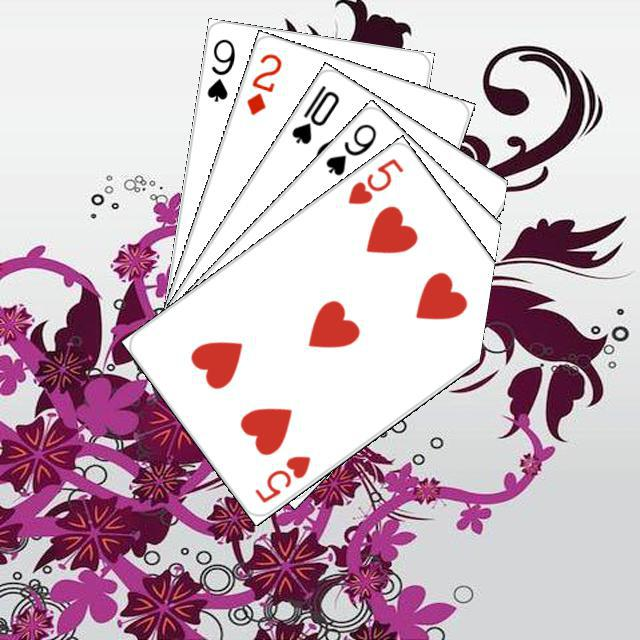10s: (286, 80, 342, 146)
2d: (241, 48, 284, 117)
5h: (249, 450, 312, 505), (342, 153, 405, 207)
9s: (320, 118, 379, 178), (202, 34, 237, 104)
